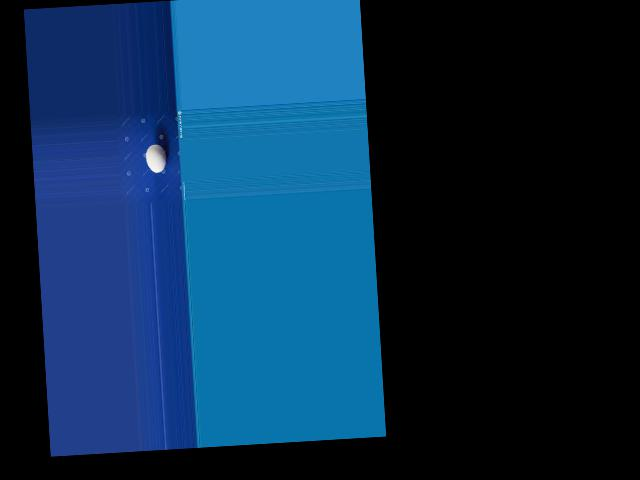egg: (145, 144, 167, 173)
